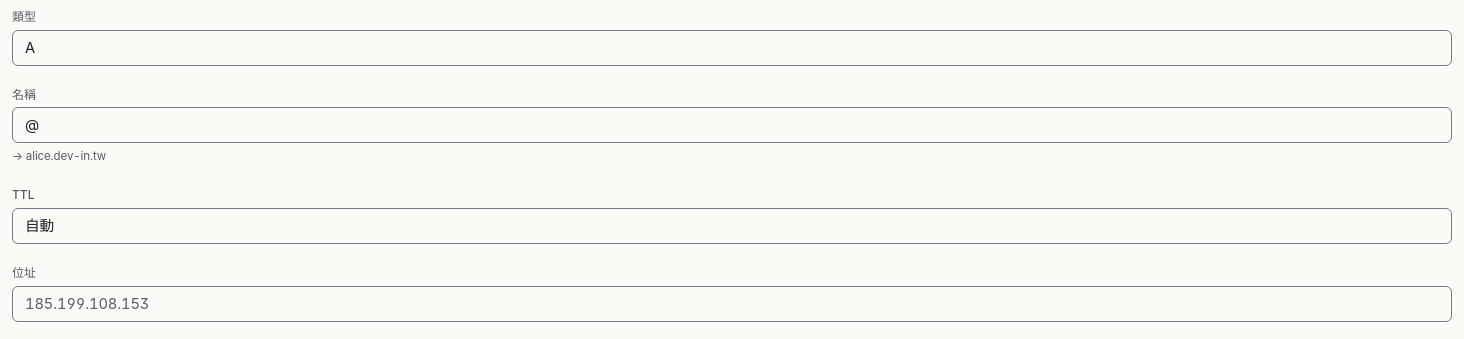
Test: DNS editor fields › previews the FQDN as the name is typed and sets domain-friendly input attributes
Type "blog" into the field labelled "名稱" at (732, 125), box [12,107,1452,143]
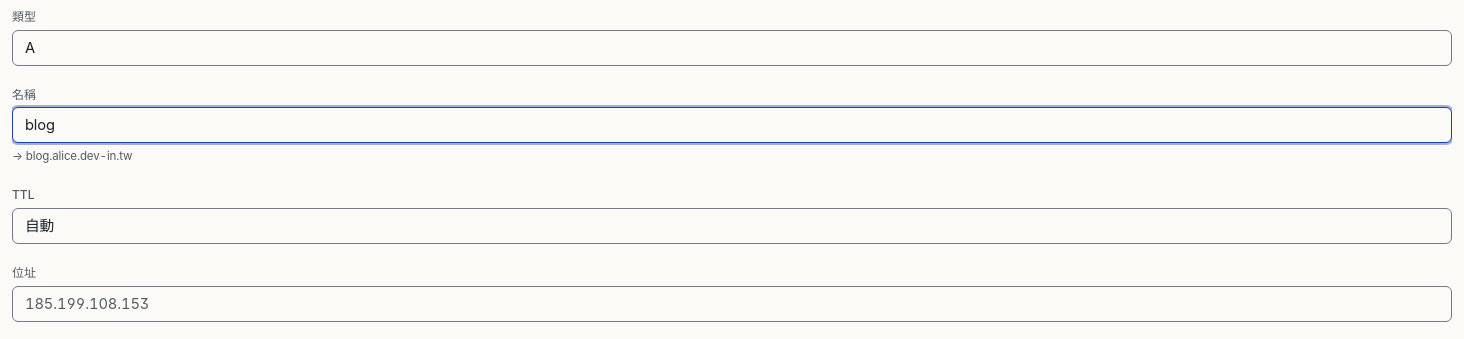
Check: the text "→ blog.alice.dev-in.tw" is shown, box [12,149,132,163]
